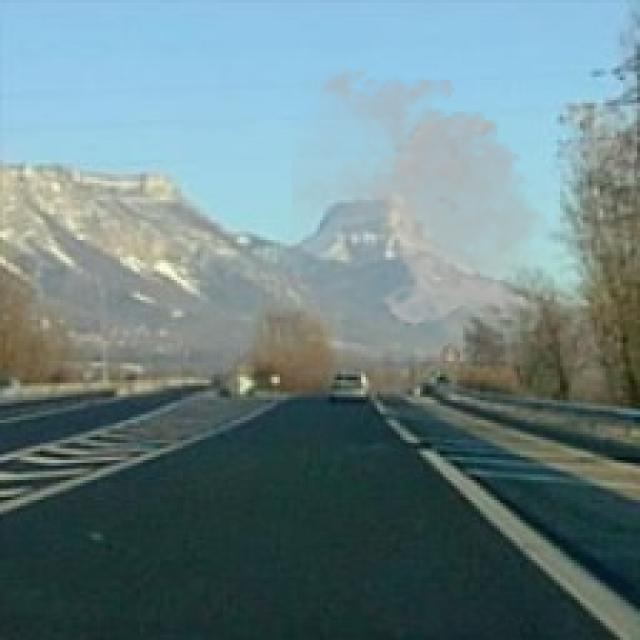Smoke: (292, 60, 557, 332)
